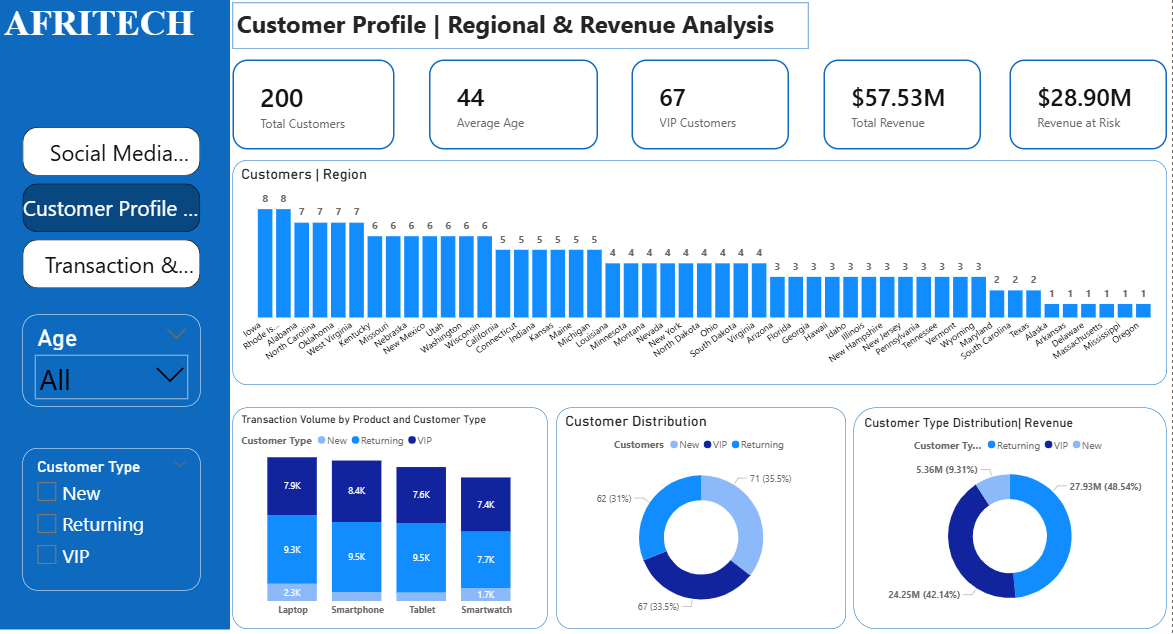

Layout of this report page (visuals, bound fields, positions):
{"tool":"powerbi","page":{"name":"Customer Profile & Regional Analysis","canvas":[1562,851],"ordinal":1},"visuals":[{"type":"donutChart","title":"Customer Type Distribution| Revenue","fields":{"Y":["public transactiondata.Total Revenue1"],"Category":["public customerdata.customertype"]},"box":[1137.5,545,417.5,295],"z":0},{"type":"cardVisual","fields":{"Data":["Count(public customerdata.customerid)"]},"box":[310,82,216,120],"z":1000},{"type":"cardVisual","fields":{"Data":["Avg(public customerdata.age)"]},"box":[571.6,81.7,225,120],"z":2000},{"type":"cardVisual","fields":{"Data":["public customerdata.VIP Customers"]},"box":[842.2,81.7,210,120],"z":3000},{"type":"cardVisual","fields":{"Data":["public transactiondata.Revenue at Riske"]},"box":[1346.7,81.7,210,120],"z":4000},{"type":"clusteredColumnChart","title":"Customers | Region","fields":{"Category":["public customerdata.region"],"Y":["CountNonNull(public customerdata.customerid)"]},"box":[310,216,1246,300],"z":5000},{"type":"columnChart","title":"Transaction Volume by Product and Customer Type","fields":{"Category":["public transactiondata.productpurchased"],"Y":["CountNonNull(public transactiondata.transactionid)"],"Series":["public customerdata.customertype"]},"box":[310,545,420,295],"z":6000},{"type":"donutChart","title":"Customer Distribution","fields":{"Category":["public customerdata.customertype"],"Y":["CountNonNull(public customerdata.customerid)"]},"box":[742.9,545.7,385.7,295],"z":7000},{"type":"textbox","box":[0,0,306.7,841.7],"z":8000},{"type":"textbox","box":[310,6,768,62],"z":9000},{"type":"slicer","fields":{"Values":["public customerdata.Age Group"]},"box":[30,422.5,237.5,122.5],"z":10000},{"type":"slicer","fields":{"Values":["public customerdata.customertype"]},"box":[30,600,237.5,190],"z":11000},{"type":"pageNavigator","box":[30,172.5,237.5,217.5],"z":12000},{"type":"cardVisual","fields":{"Data":["public transactiondata.Total Revenue1"]},"box":[1097.8,81.7,210,120],"z":13001}]}

Visuals, with their boxes on the page's 1562x851 design canvas (x1, y1, x2, y2). These are canvas units, not pixel positions in the 1173x634 screenshot, which may show the page scaled, cropped or inside an application window:
"Customer Type Distribution| Revenue" donutChart: {"left": 1138, "top": 545, "right": 1555, "bottom": 840}
cardVisual - Count(public customerdata.customerid): {"left": 310, "top": 82, "right": 526, "bottom": 202}
cardVisual - Avg(public customerdata.age): {"left": 572, "top": 82, "right": 797, "bottom": 202}
cardVisual - public customerdata.VIP Customers: {"left": 842, "top": 82, "right": 1052, "bottom": 202}
cardVisual - public transactiondata.Revenue at Riske: {"left": 1347, "top": 82, "right": 1557, "bottom": 202}
"Customers | Region" clusteredColumnChart: {"left": 310, "top": 216, "right": 1556, "bottom": 516}
"Transaction Volume by Product and Customer Type" columnChart: {"left": 310, "top": 545, "right": 730, "bottom": 840}
"Customer Distribution" donutChart: {"left": 743, "top": 546, "right": 1129, "bottom": 841}
textbox: {"left": 0, "top": 0, "right": 307, "bottom": 842}
textbox: {"left": 310, "top": 6, "right": 1078, "bottom": 68}
slicer - public customerdata.Age Group: {"left": 30, "top": 422, "right": 268, "bottom": 545}
slicer - public customerdata.customertype: {"left": 30, "top": 600, "right": 268, "bottom": 790}
pageNavigator: {"left": 30, "top": 172, "right": 268, "bottom": 390}
cardVisual - public transactiondata.Total Revenue1: {"left": 1098, "top": 82, "right": 1308, "bottom": 202}
